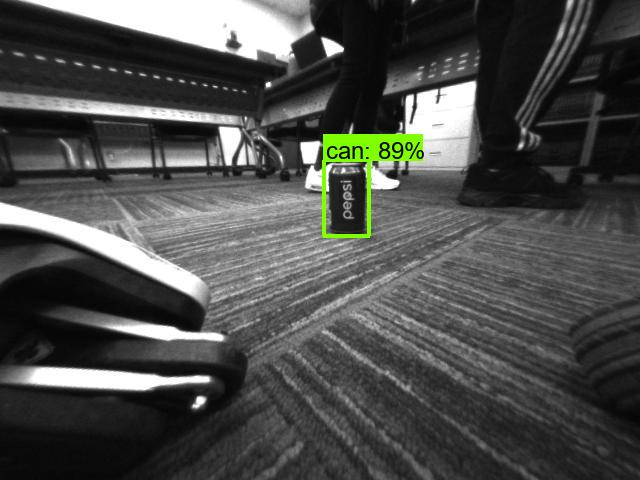can: (328, 157, 366, 239)
